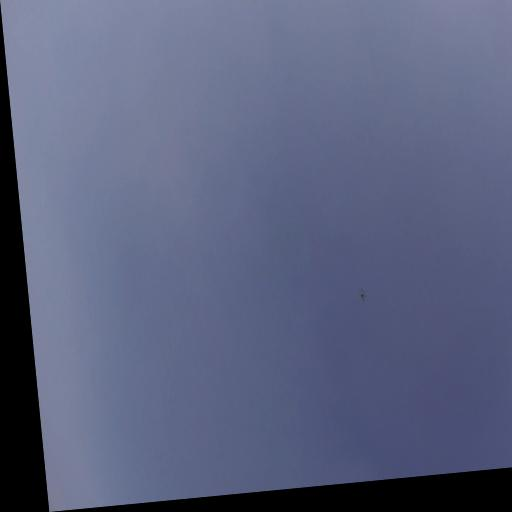drones: (358, 286, 368, 304)
